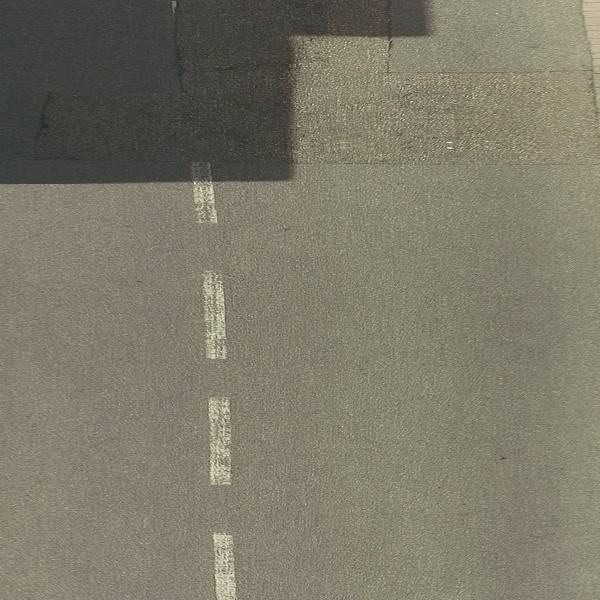road_damage: (21, 76, 167, 172), (376, 42, 585, 82)
